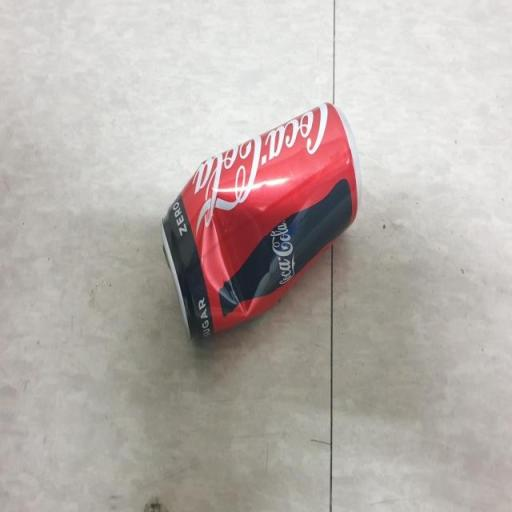metal: (147, 68, 380, 360)
